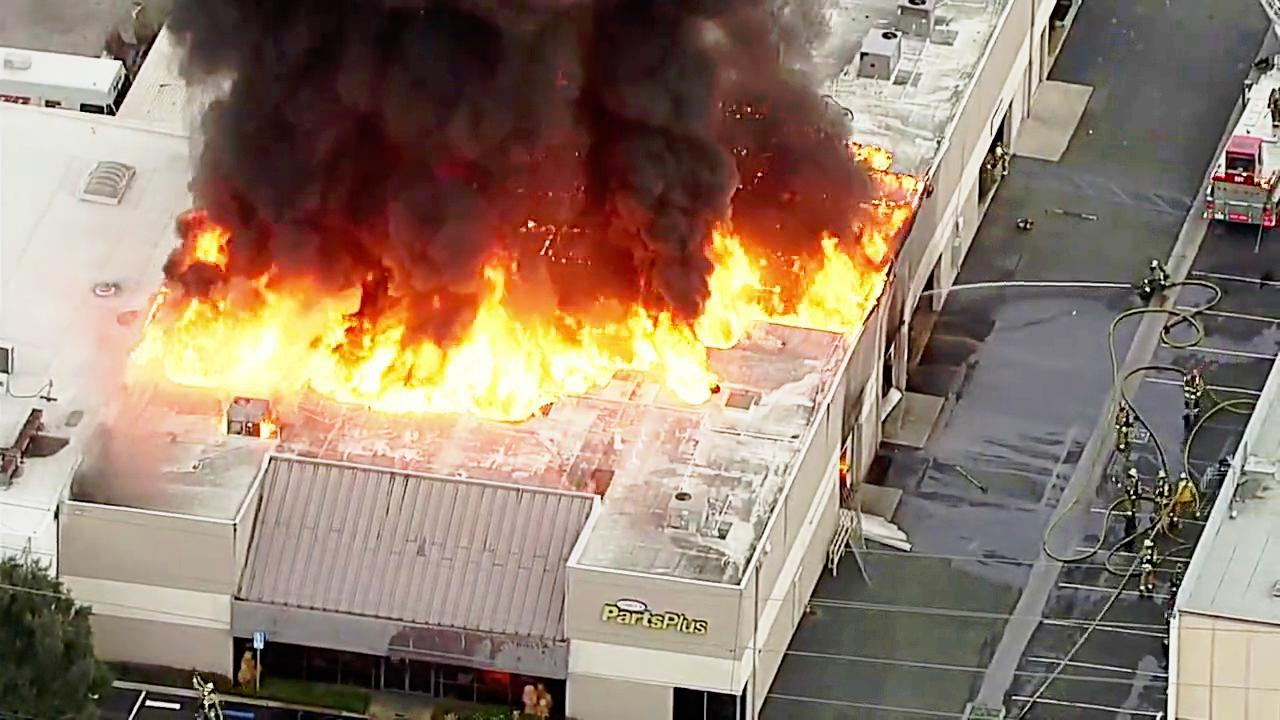fire: (170, 275, 547, 414), (502, 257, 752, 392), (757, 262, 879, 326)
smoke: (264, 0, 779, 215)
